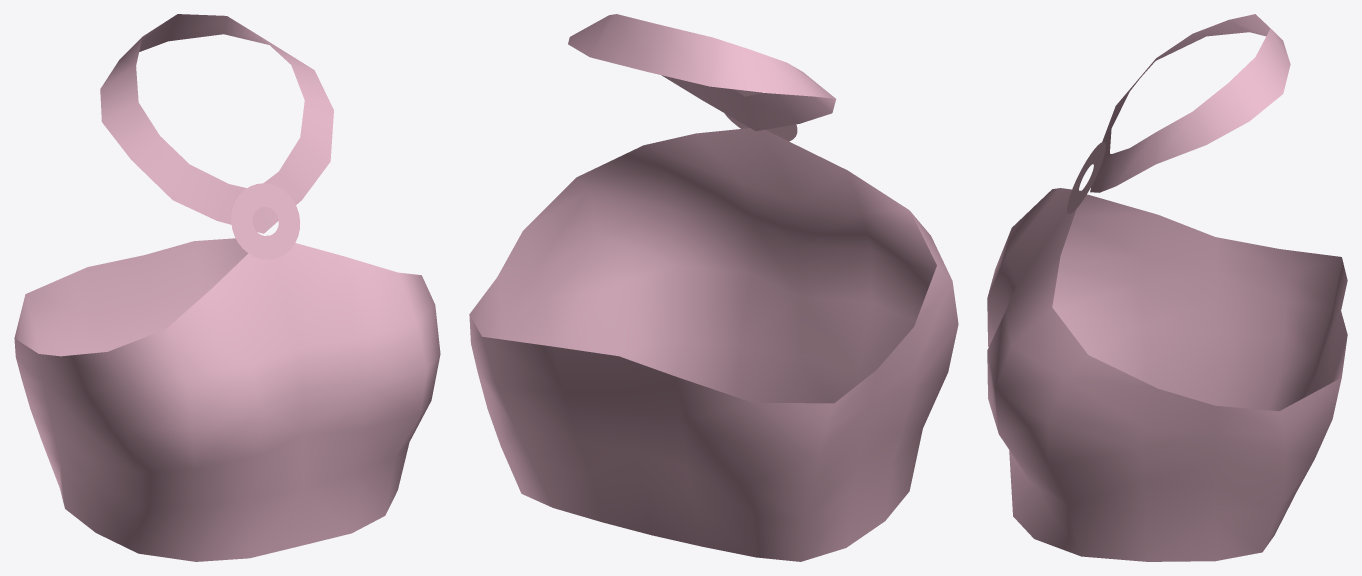
File: blouse_16.glb
The picture shows the model from 3 angles, left to right: view 1: azimuth 30°, elevation 25°; view 2: azimuth 150°, elevation 25°; view 3: azimuth 270°, elevation 25°; orthographic projection. The views are drawn at different scales.
Parts seen in each view (by area): view 1: blouse_16; view 2: blouse_16; view 3: blouse_16.
Part boxes in pixels (bbox=[...]): blouse_16: bbox=[14, 14, 440, 561]; blouse_16: bbox=[469, 14, 958, 561]; blouse_16: bbox=[987, 14, 1347, 561].
Size of the model in its own units: 0.2752 by 0.341 by 0.2409.
